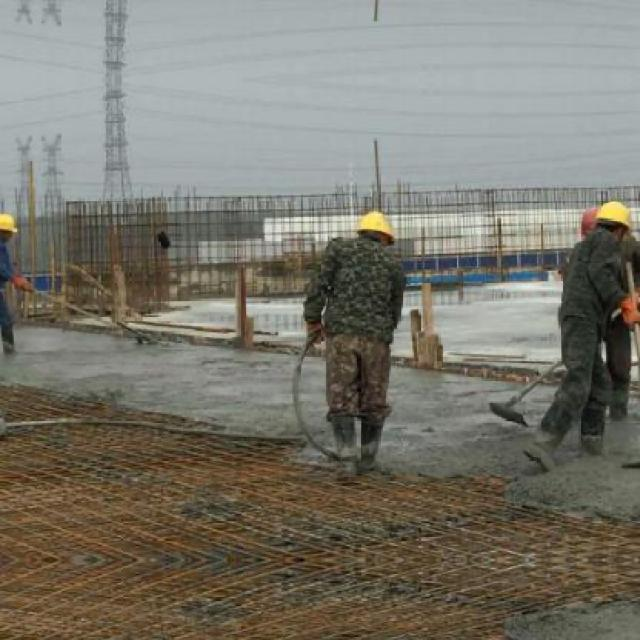helmet: (352, 207, 400, 256), (588, 200, 632, 248), (1, 212, 17, 243)
